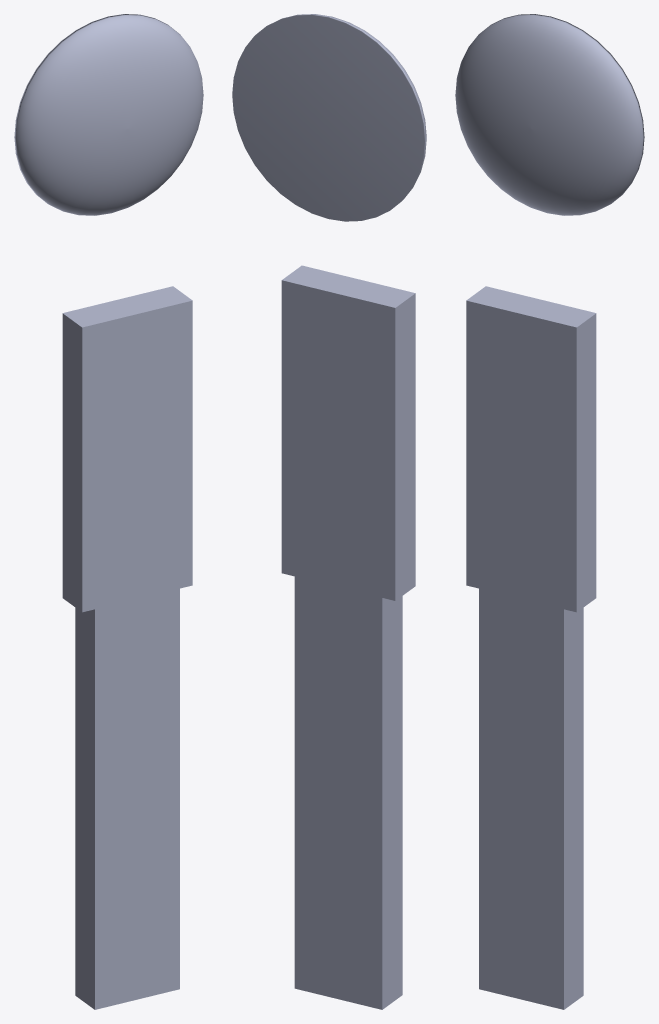
File: spoon.obj
The picture shows the model from 3 angles, left to right: view 1: azimuth 30°, elevation 25°; view 2: azimuth 150°, elevation 25°; view 3: azimuth 330°, elevation 25°; orthographic projection. The views are drawn at different scales.
Bounding box in the file's own units: 0.022 × 0.108 × 0.006.
